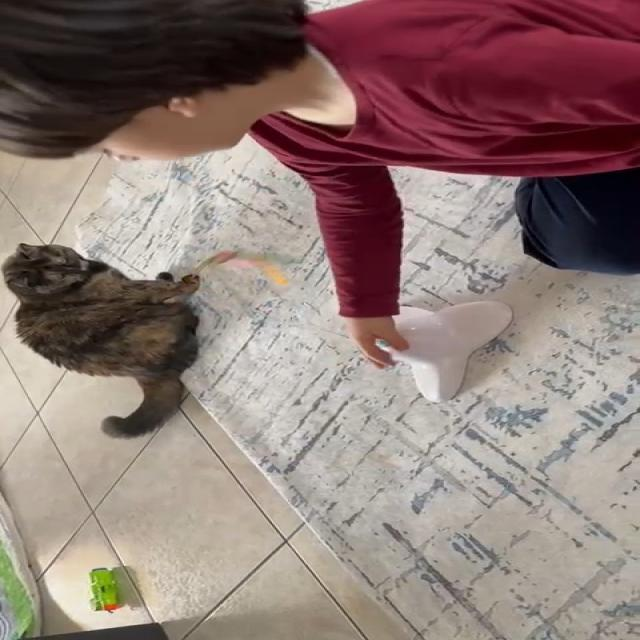authorized: (0, 241, 201, 439)
